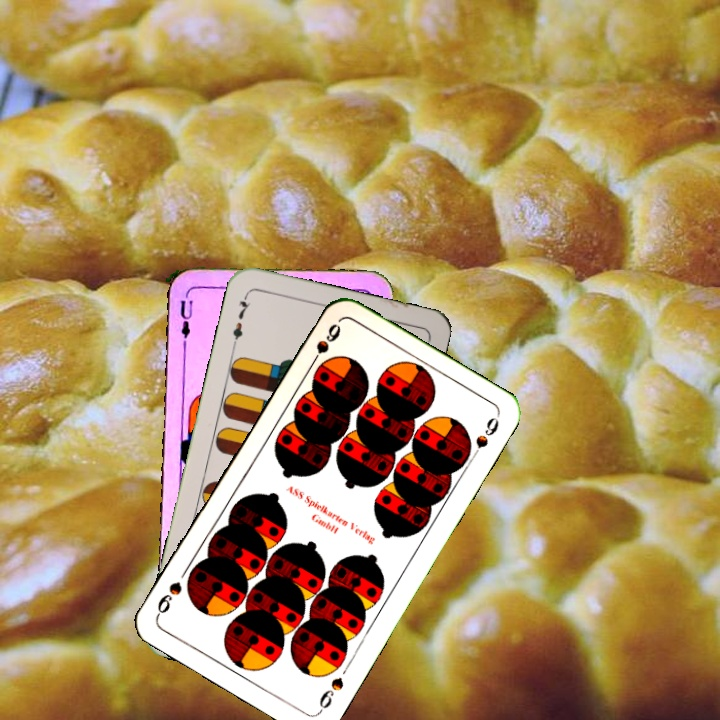E7: (228, 290, 254, 349)
EU: (176, 296, 195, 349)
S9: (304, 319, 344, 372), (314, 673, 346, 716)
